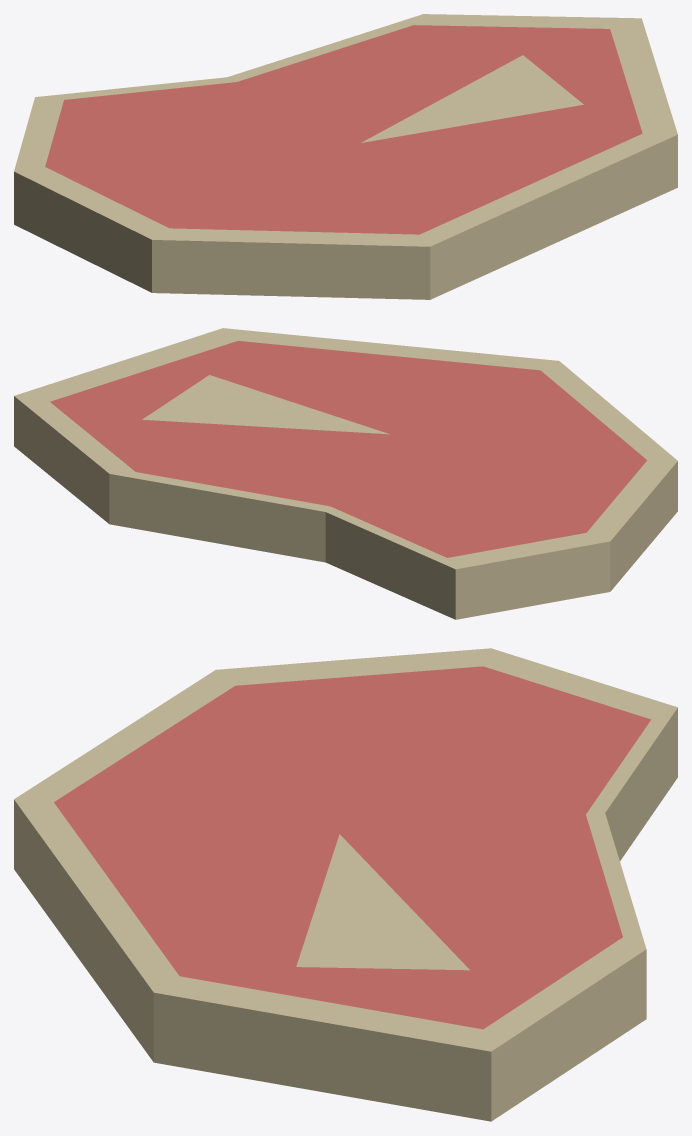
Rendered from Meat1.fbx.
The picture shows the model from 3 angles, top to bottom: view 1: azimuth 30°, elevation 25°; view 2: azimuth 150°, elevation 25°; view 3: azimuth 270°, elevation 25°; orthographic projection. The views are drawn at different scales.
Visible parts, largest first — view 1: Cylinder; view 2: Cylinder; view 3: Cylinder.
Part boxes in pixels (x1,y1,x2,y2): Cylinder: (14,14,677,299); Cylinder: (14,328,677,619); Cylinder: (14,648,677,1121).
Bounding box in the file's own units: 0.4 × 0.0324 × 0.2782.
